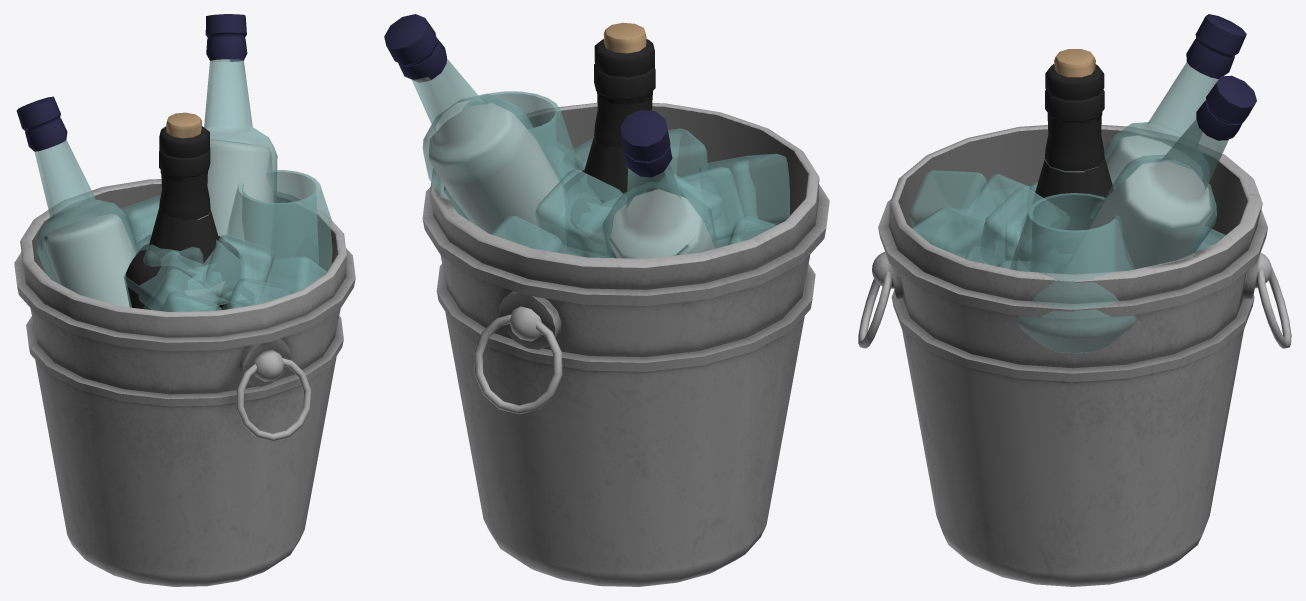
File: bouteille_liquide.fbx
3 renders of one model, left to right at view 1: azimuth 30°, elevation 25°; view 2: azimuth 150°, elevation 25°; view 3: azimuth 270°, elevation 25°, orthographic. The views are drawn at different scales.
Parts seen in each view (by area): view 1: Sceau1, Bouteille3, Verre01, Bouteille07, Bouteille02, bouteille4; view 2: Sceau1, Bouteille3, Bouteille02, Verre01, Bouteille07; view 3: Sceau1, Verre01, Bouteille3, Bouteille02, Bouteille07.
Part boxes in pixels (box(x1,y1,x2,y2)): Sceau1: box(14, 14, 355, 586); Bouteille3: box(124, 126, 265, 310); Verre01: box(227, 170, 332, 292); Bouteille07: box(124, 236, 241, 310); Bouteille02: box(148, 112, 226, 304); bouteille4: box(185, 265, 224, 301); Sceau1: box(384, 14, 829, 586); Bouteille3: box(552, 39, 721, 257); Bouteille02: box(582, 22, 666, 257); Verre01: box(460, 91, 580, 220); Bouteille07: box(563, 170, 685, 243); Sceau1: box(858, 14, 1291, 586); Verre01: box(1010, 193, 1135, 353); Bouteille3: box(1005, 64, 1114, 260); Bouteille02: box(1032, 49, 1113, 217); Bouteille07: box(1022, 215, 1093, 272).
Bounding box in the file's own units: 50.33 × 73.17 × 55.22.
